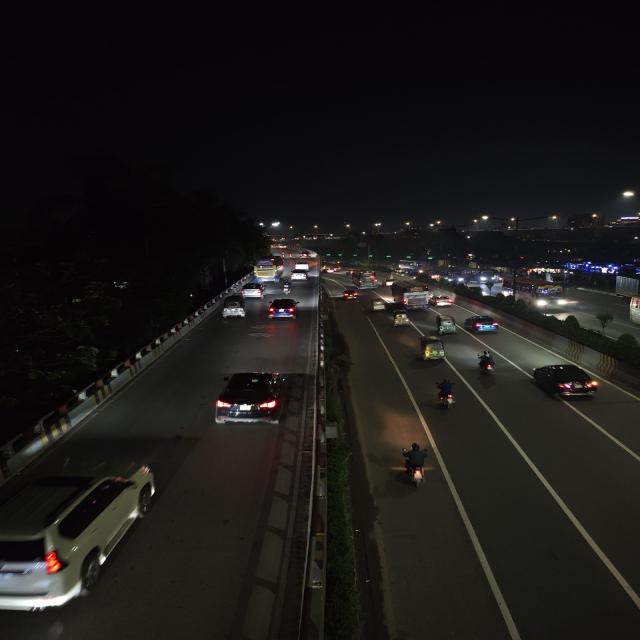bus: (506, 281, 568, 311), (390, 281, 430, 310), (253, 258, 282, 280), (354, 272, 379, 288), (396, 261, 420, 275)
car: (2, 447, 164, 618), (208, 369, 288, 428), (531, 361, 605, 402), (266, 297, 301, 320), (463, 314, 502, 334), (240, 282, 265, 298), (434, 293, 456, 307), (290, 266, 311, 280), (291, 260, 310, 274), (341, 288, 362, 300), (298, 250, 312, 260)
cng: (418, 336, 447, 364), (221, 296, 248, 320), (435, 313, 458, 336), (389, 310, 412, 328), (369, 298, 387, 312)
motorcycle: (394, 441, 436, 489), (430, 376, 462, 412), (472, 349, 499, 380), (280, 279, 294, 295)
